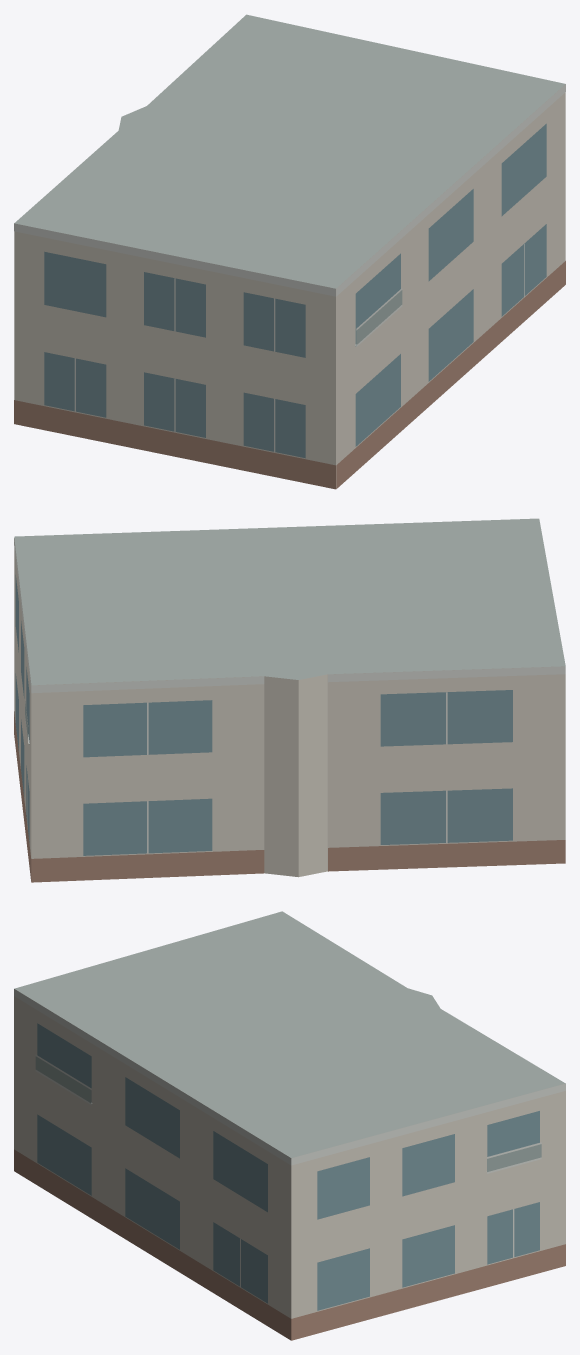
The model's file is survey-upis-32624910.glb.
3 views of the same model, one above another, from view 1: azimuth 30°, elevation 25°; view 2: azimuth 150°, elevation 25°; view 3: azimuth 270°, elevation 25° (orthographic). The views are drawn at different scales.
Parts seen in each view (by area): view 1: survey-upis-32624910.tmp; view 2: survey-upis-32624910.tmp; view 3: survey-upis-32624910.tmp.
Part boxes in pixels (x1,y1,x2,y2): survey-upis-32624910.tmp: (14,14,565,489); survey-upis-32624910.tmp: (14,518,565,882); survey-upis-32624910.tmp: (14,911,565,1340).
Size of the model in its own units: 17.72 by 6.1 by 16.73.
